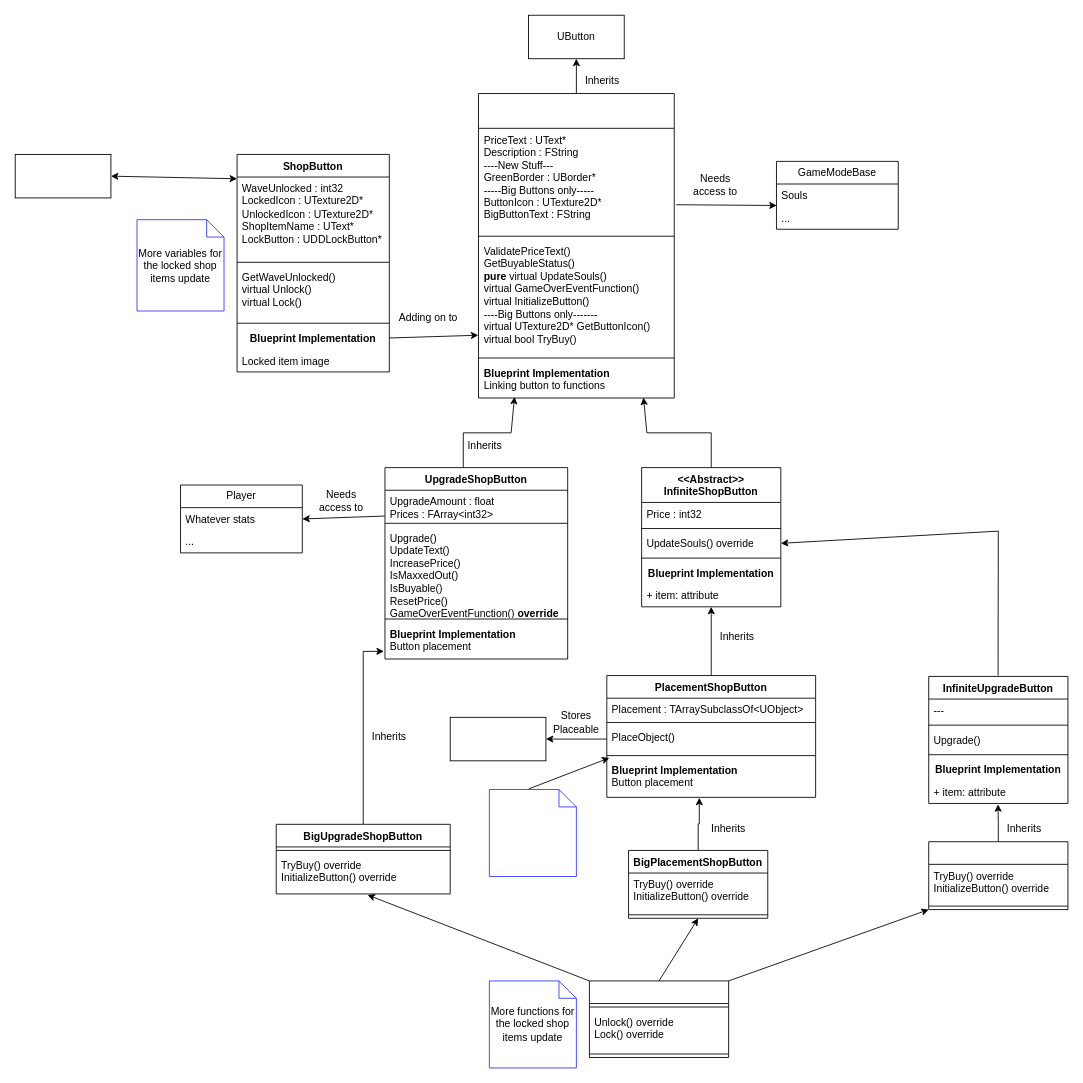
Some shapes in this 1083 by 1083 pixel diagram are drawn without their labels. Here are the shapes that lost their labels. From the top down, the box of each, then its label:
(14, 154, 111, 198): DDLockButton
(478, 93, 674, 398): <<Abstract>> ShopButton
(449, 716, 546, 761): PlaceableManager
(489, 789, 576, 877): Class for items that can be placed in-game
(928, 841, 1068, 910): BigInfiniteUpgradeButton
(589, 980, 729, 1057): BigShopButtons
